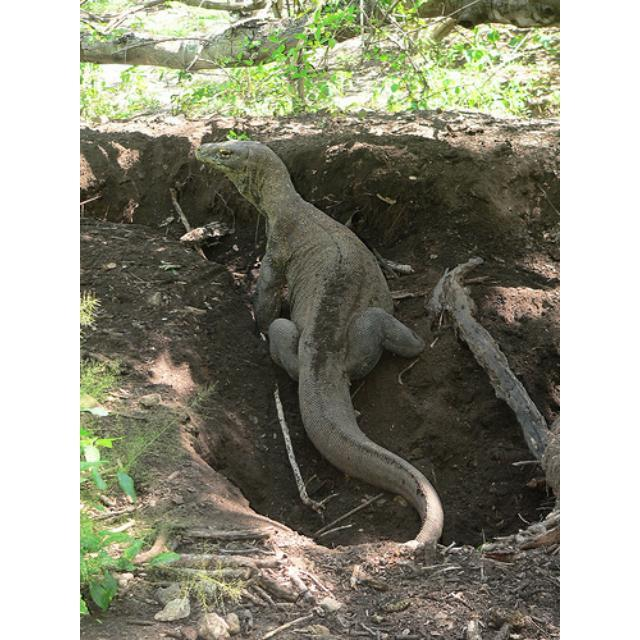KomodoDragon: (191, 133, 444, 551)
